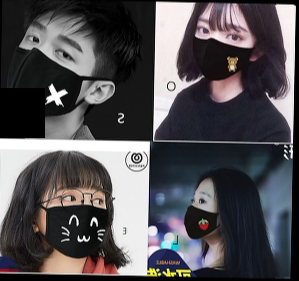with_mask: (10, 18, 95, 115), (34, 183, 111, 260), (190, 15, 255, 82), (181, 188, 218, 241)
